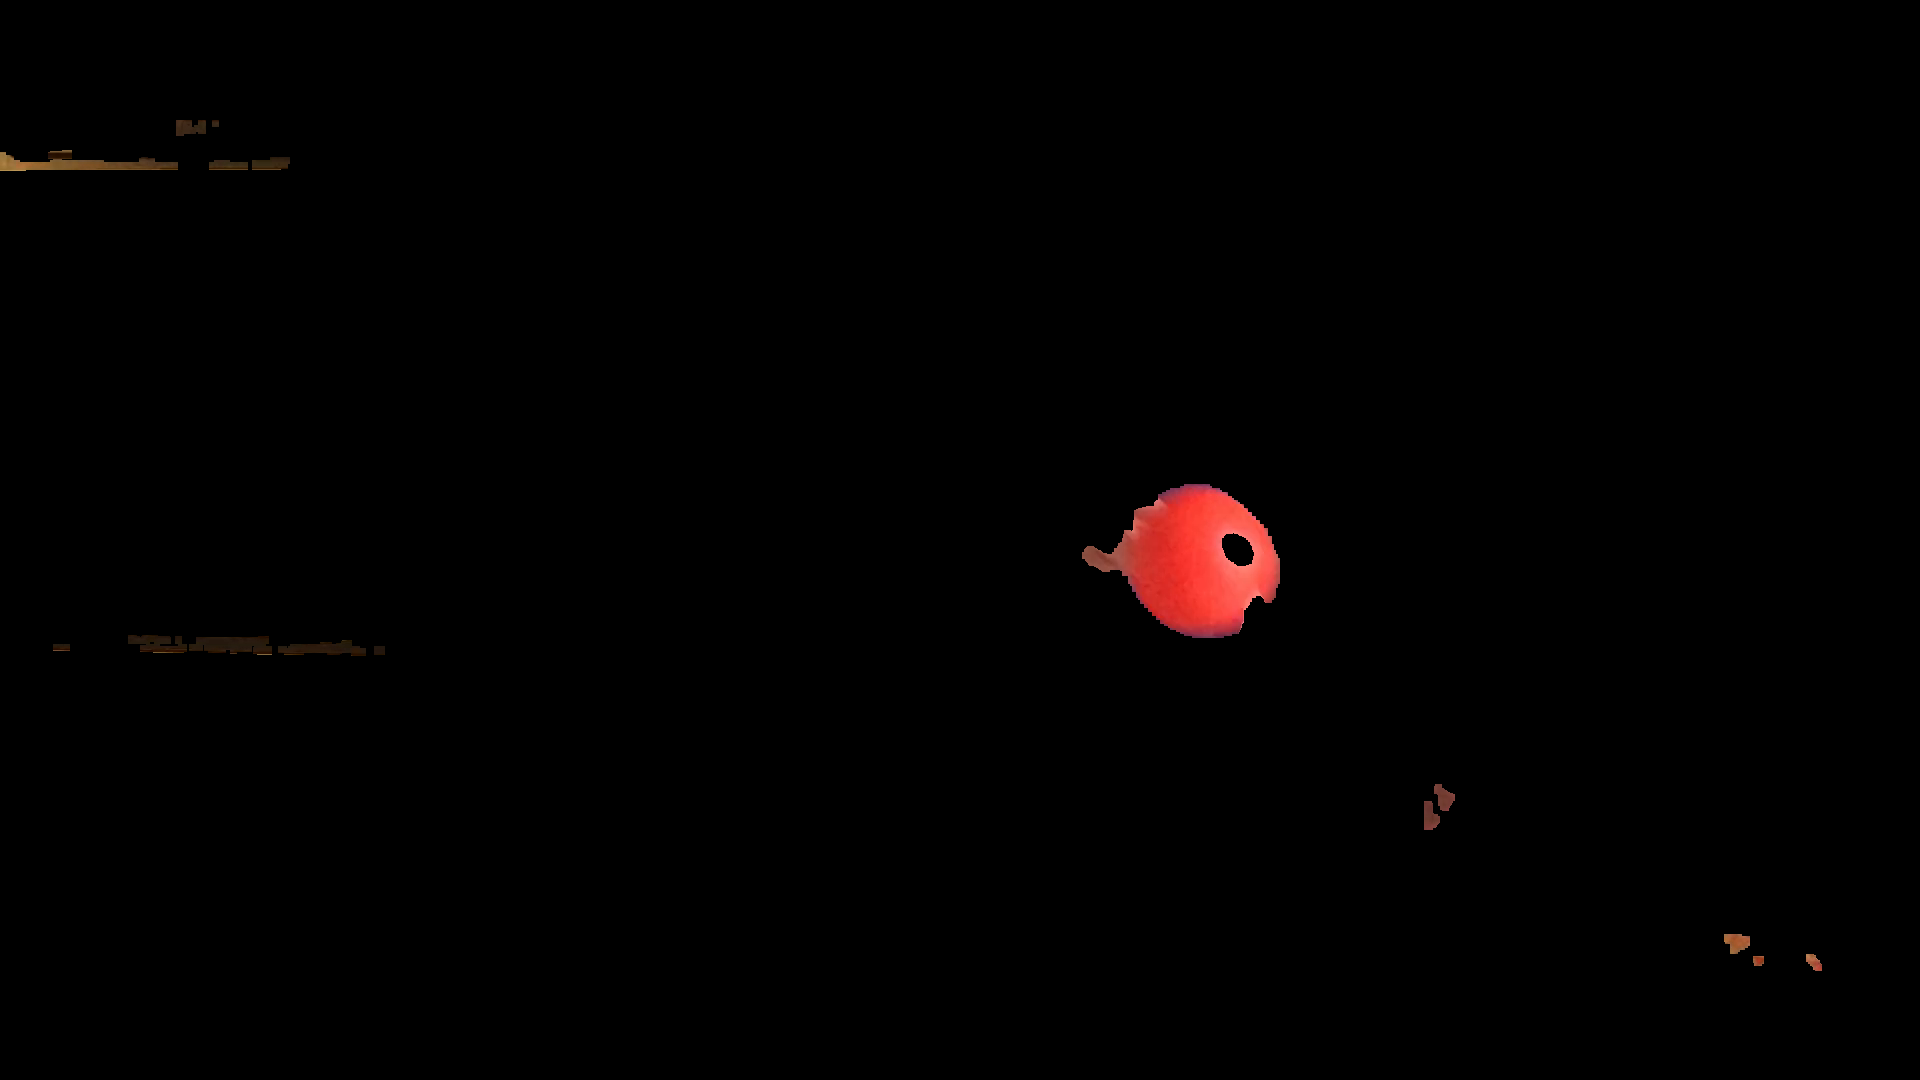Ball: (1118, 487, 1283, 642)
